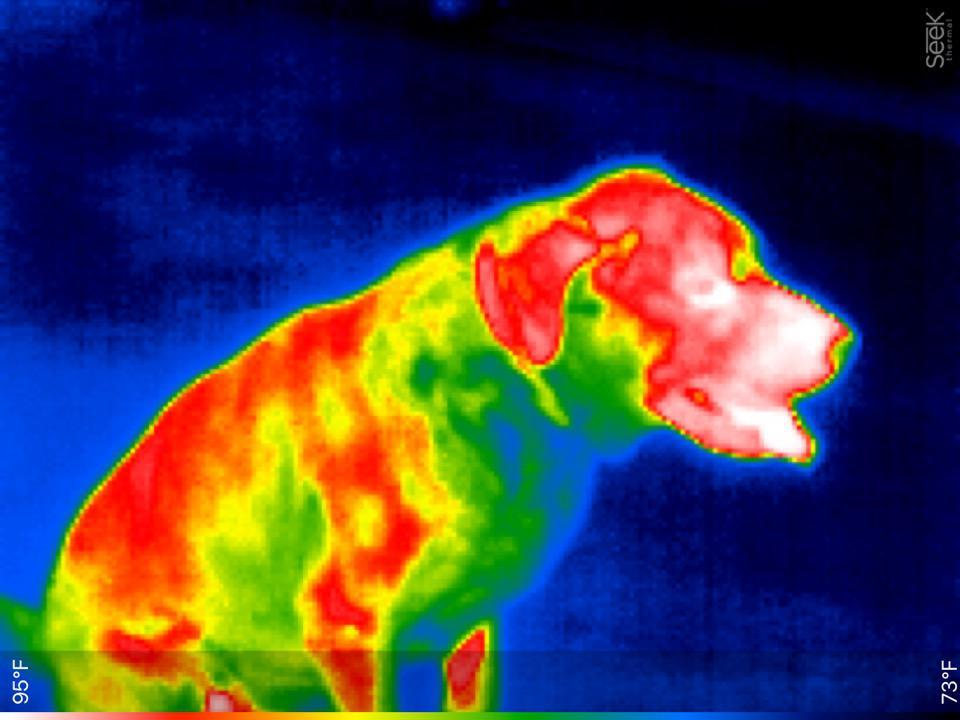dog: (2, 145, 876, 710)
